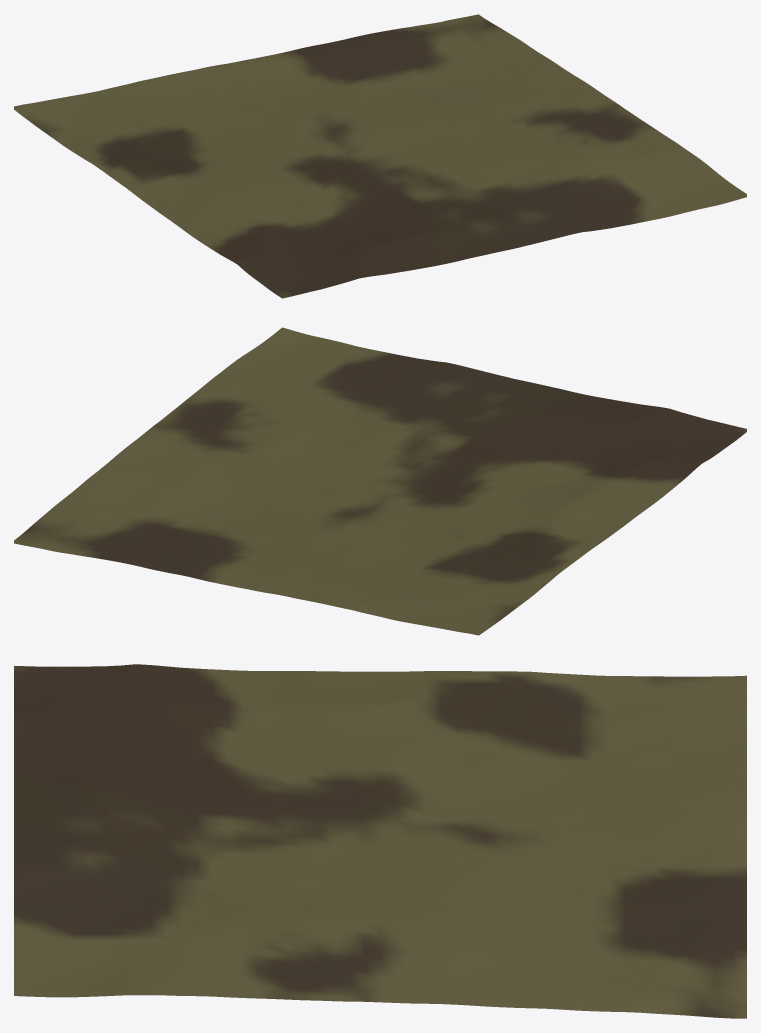
The model's file is land_m_00_11.glb.
The picture shows the model from 3 angles, top to bottom: view 1: azimuth 30°, elevation 25°; view 2: azimuth 150°, elevation 25°; view 3: azimuth 270°, elevation 25°; orthographic projection. The views are drawn at different scales.
Parts seen in each view (by area): view 1: land_m_00_11; view 2: land_m_00_11; view 3: land_m_00_11.
Part boxes in pixels (box(x1,y1,x2,y2)): land_m_00_11: box(14, 14, 746, 298); land_m_00_11: box(14, 327, 746, 635); land_m_00_11: box(14, 664, 746, 1018).
Size of the model in its own units: 960 by 65.11 by 960.
